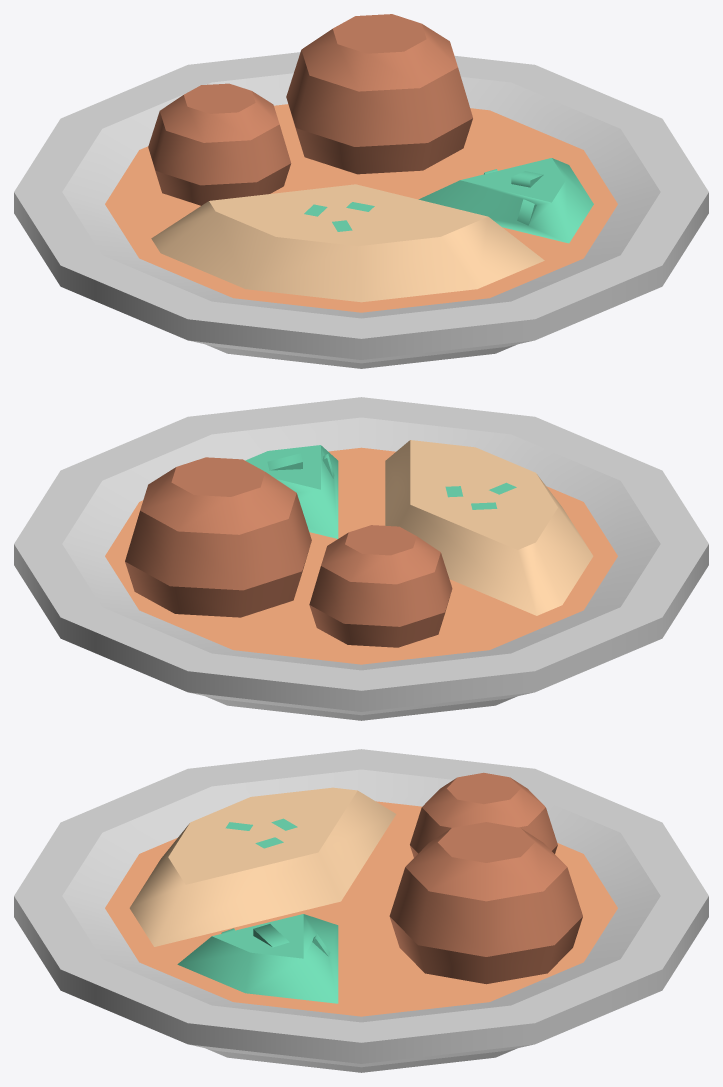
Rendered from plateDinner.dae.
3 views of the same model, one above another, from view 1: azimuth 30°, elevation 25°; view 2: azimuth 150°, elevation 25°; view 3: azimuth 270°, elevation 25° (orthographic).
Parts seen in each view (by area): view 1: plateDinner; view 2: plateDinner; view 3: plateDinner.
Part boxes in pixels (box(x1,y1,x2,y2)): plateDinner: box(14, 14, 708, 368); plateDinner: box(14, 397, 708, 720); plateDinner: box(14, 749, 708, 1072).
Bounding box in the file's own units: 0.8918 × 0.2214 × 0.8918.
